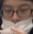mask_weared_incorrect: (1, 1, 33, 34)
